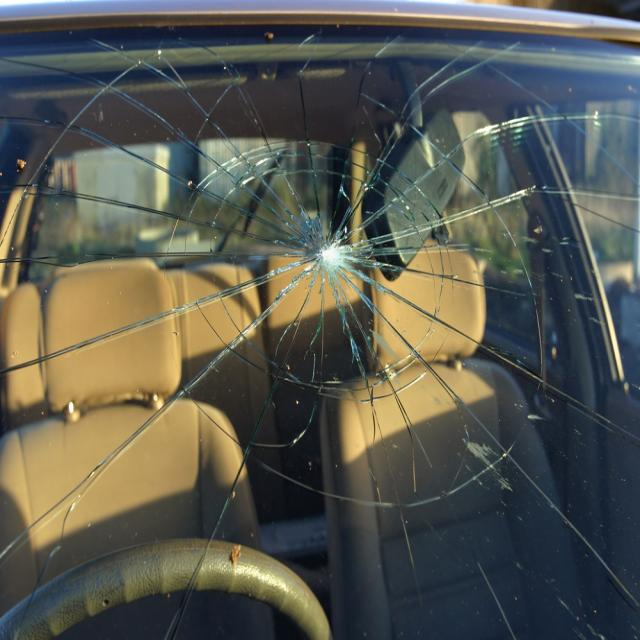Fissure: (165, 130, 458, 426), (460, 40, 640, 468), (164, 435, 391, 640), (0, 407, 162, 640), (1, 2, 163, 214), (0, 243, 169, 423), (395, 422, 534, 640), (536, 475, 640, 640), (301, 32, 459, 132), (162, 23, 277, 118)
